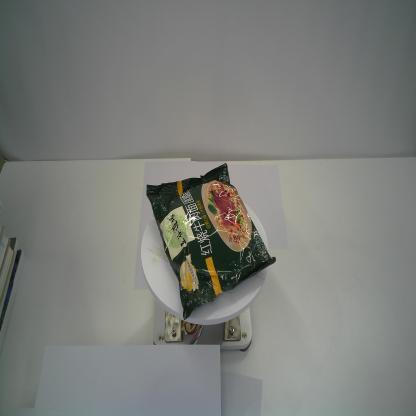Instant Noodles: (145, 160, 277, 321)
